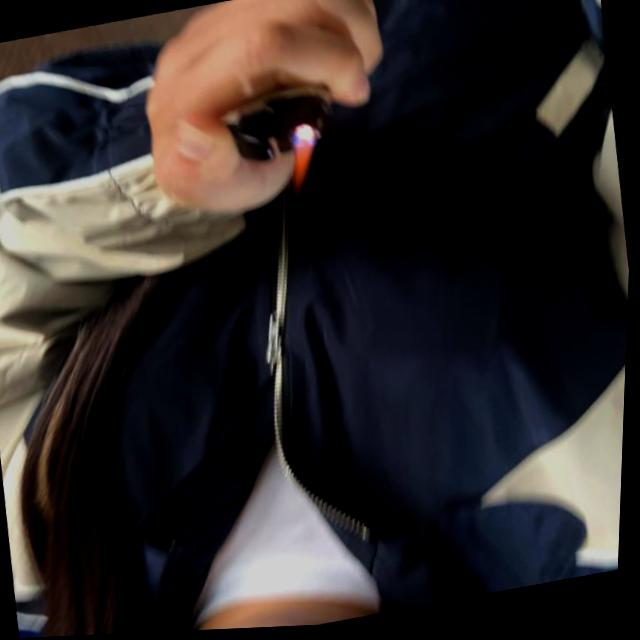Fire: (285, 137, 325, 198)
